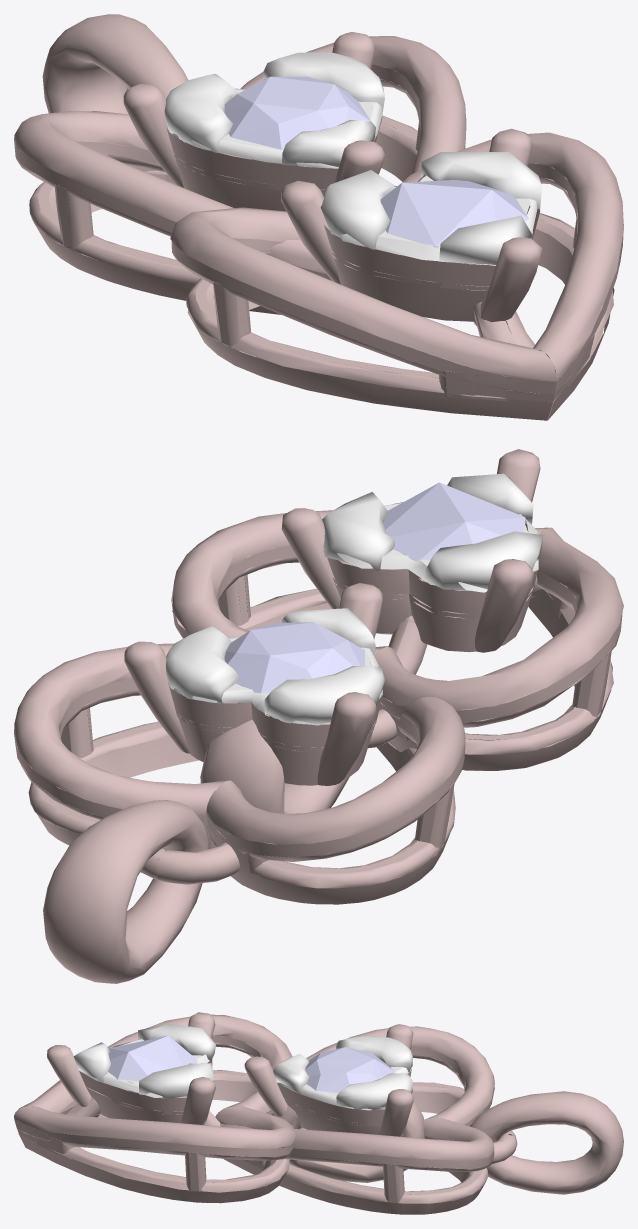
Rendered from DPN-D000736716.glb.
3 renders of one model, top to bottom at view 1: azimuth 30°, elevation 25°; view 2: azimuth 150°, elevation 25°; view 3: azimuth 270°, elevation 25°, orthographic. The views are drawn at different scales.
Parts seen in each view (by area): view 1: lowPolyMesh, highPolyMesh; view 2: highPolyMesh, lowPolyMesh; view 3: highPolyMesh, lowPolyMesh.
Boxes of the visible parts, x1=… form: lowPolyMesh: x1=170, y1=128, x2=623, y2=420; highPolyMesh: x1=14, y1=14, x2=466, y2=314; highPolyMesh: x1=14, y1=583, x2=465, y2=983; lowPolyMesh: x1=171, y1=449, x2=623, y2=813; highPolyMesh: x1=220, y1=1024, x2=623, y2=1214; lowPolyMesh: x1=14, y1=1012, x2=424, y2=1203.
Bounding box in the file's own units: 0.0102 × 0.00565 × 0.0212.
